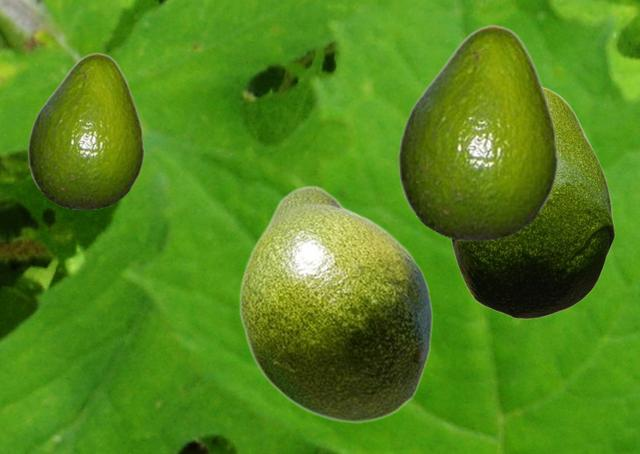avocado: (238, 185, 432, 423), (450, 87, 614, 318), (397, 24, 557, 239), (27, 52, 143, 208)
